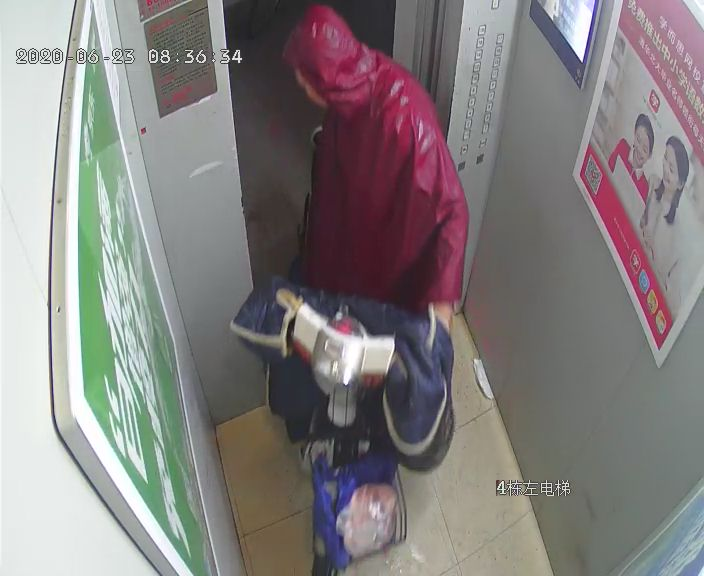Electric-bicycle: (243, 245, 448, 575)
